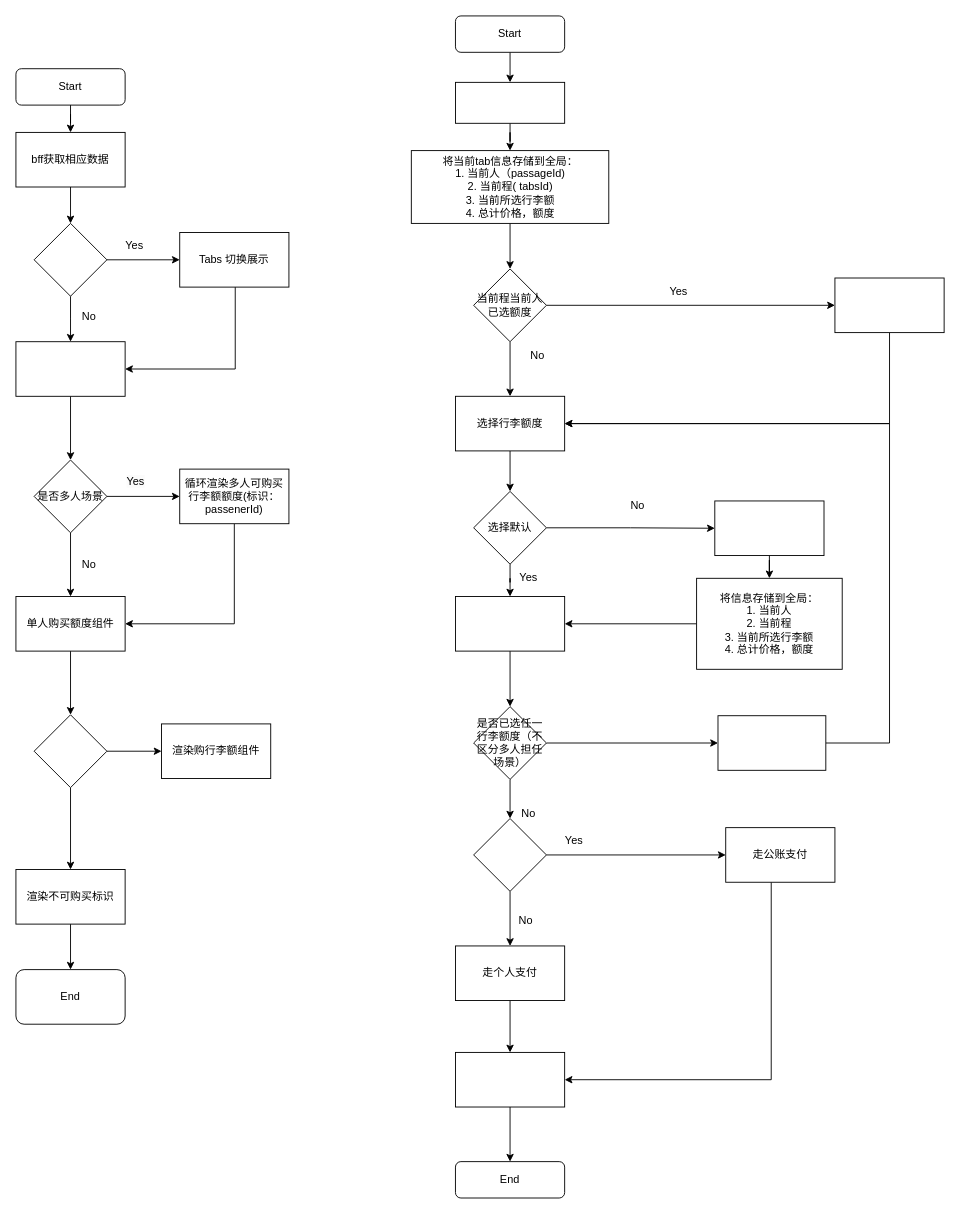
Image size: 960x1214. Some labels were removed from this diagram. Each missing label, with the centre of its shape:
"1. 已选额度回填 2. 总计价格，额度回填" goes at (889,305).
"公司支付" goes at (509,854).
"切换tabs操作" goes at (510,102).
"展示人程卡片" goes at (70,368).
"提交" goes at (510,623).
"提醒选择行李额度" goes at (771,742).
"是否可购买行李额" goes at (70,751).
"是否多程场景" goes at (70,259).
"跳转完成页" goes at (510,1079).
"选择非默认展示额度" goes at (769,528).
